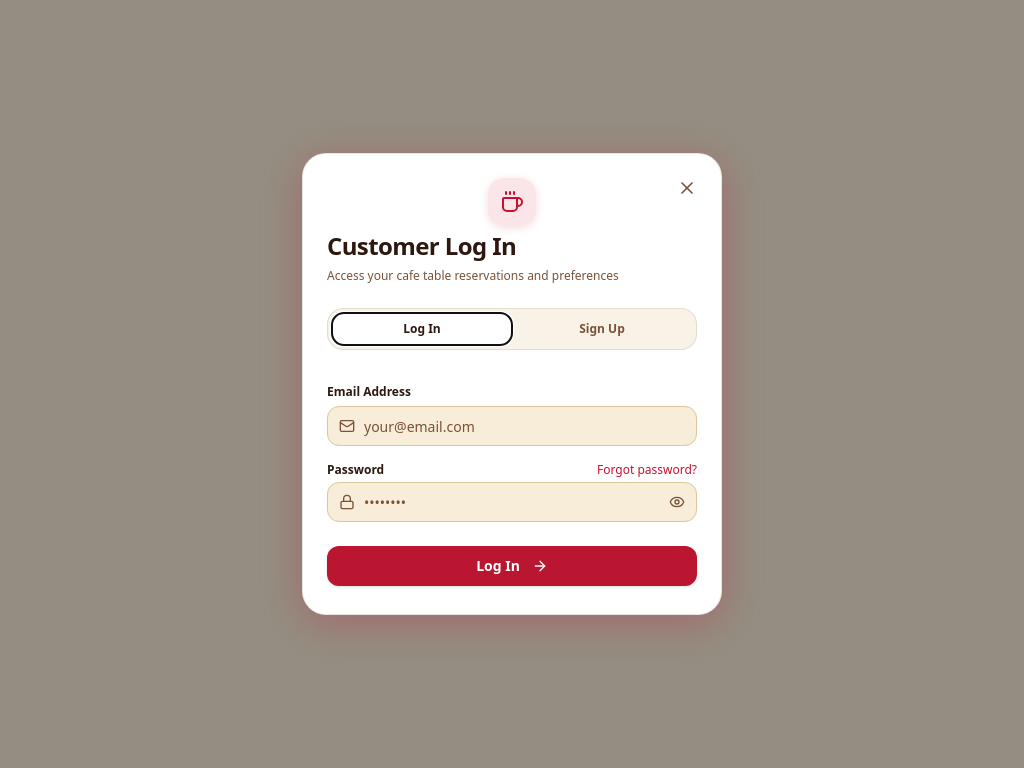
Test: CustomerAuthModal › resetting a forgotten password › says the same thing whether or not the account exists
Click the button "Forgot password?".
click(647, 470)  # box [597,462,697,478]
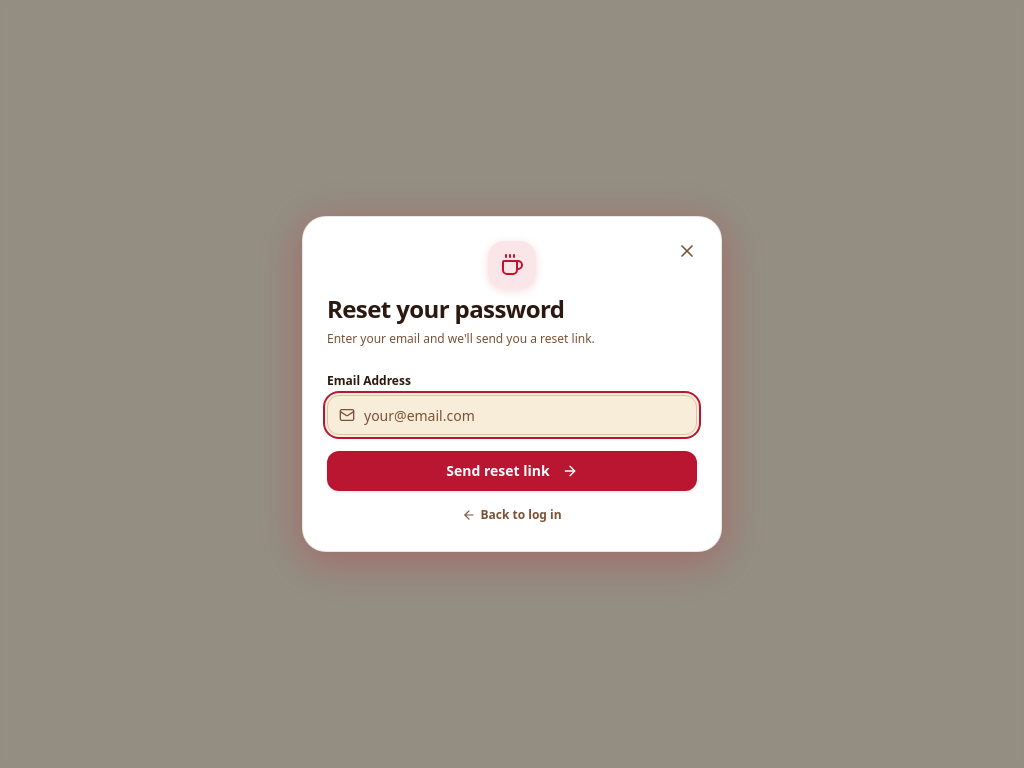
Type "nobody@example.com" into the field with placeholder "your@email.com".
click(512, 415); type("nobody@example.com")  # box [327,395,697,435]
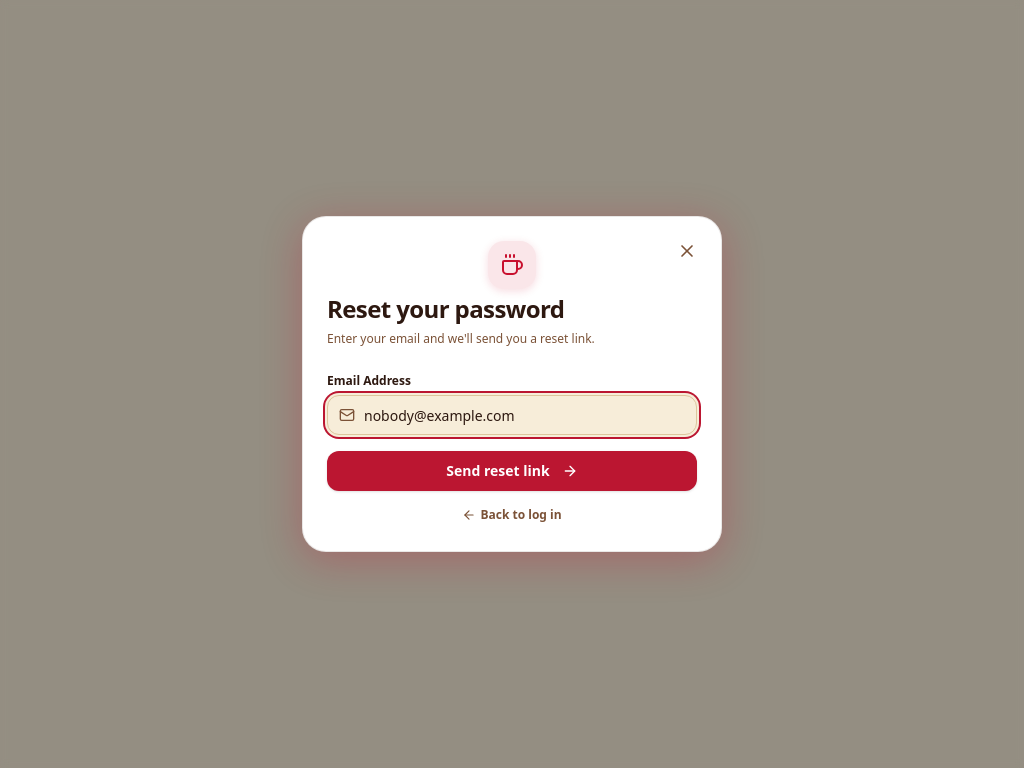
Click the button "Send reset link".
click(512, 471)  # box [327,451,697,491]
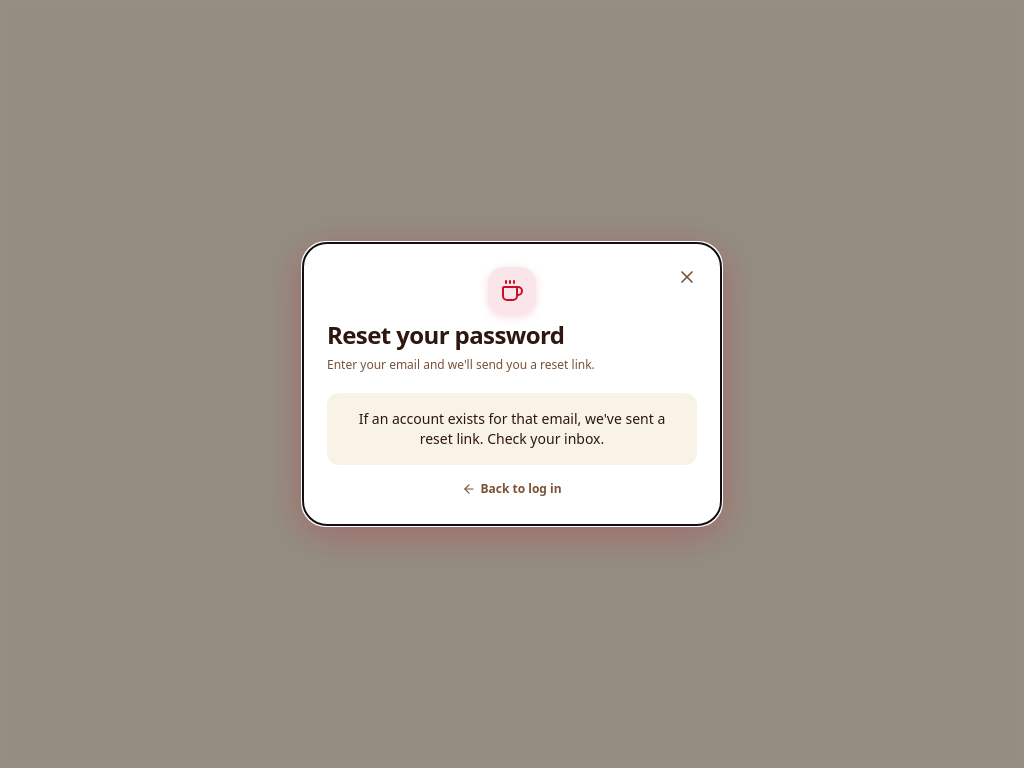
Check: the text "If an account exists for that email" is shown, box [359,409,665,448]
